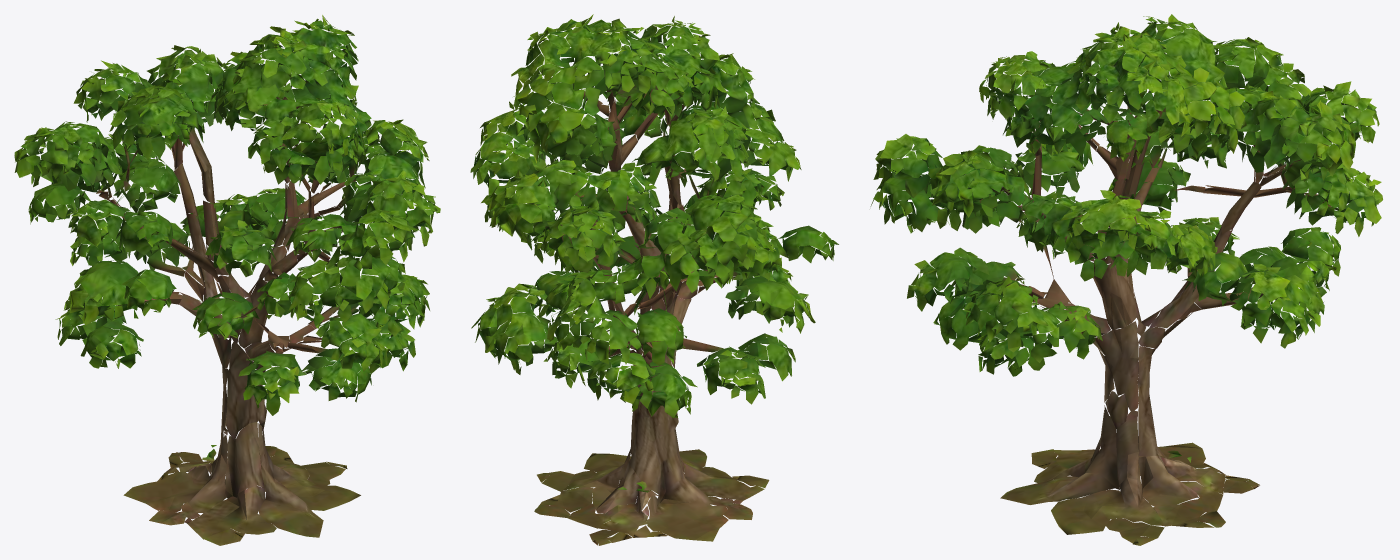
Rendered from arvore_tripo.glb.
3 renders of one model, left to right at view 1: azimuth 30°, elevation 25°; view 2: azimuth 150°, elevation 25°; view 3: azimuth 270°, elevation 25°, orthographic. The views are drawn at different scales.
Parts seen in each view (by area): view 1: tripo_node_9e7ef47c-c5b5-4664-8342-3a1886cfb5ec; view 2: tripo_node_9e7ef47c-c5b5-4664-8342-3a1886cfb5ec; view 3: tripo_node_9e7ef47c-c5b5-4664-8342-3a1886cfb5ec.
Boxes of the visible parts, <box> form: tripo_node_9e7ef47c-c5b5-4664-8342-3a1886cfb5ec: <box>14,15,440,545</box>; tripo_node_9e7ef47c-c5b5-4664-8342-3a1886cfb5ec: <box>470,14,838,545</box>; tripo_node_9e7ef47c-c5b5-4664-8342-3a1886cfb5ec: <box>870,14,1382,545</box>.
Size of the model in its own units: 0.781 by 0.9982 by 0.9607.
Materials: 1 (1 with a texture image).
